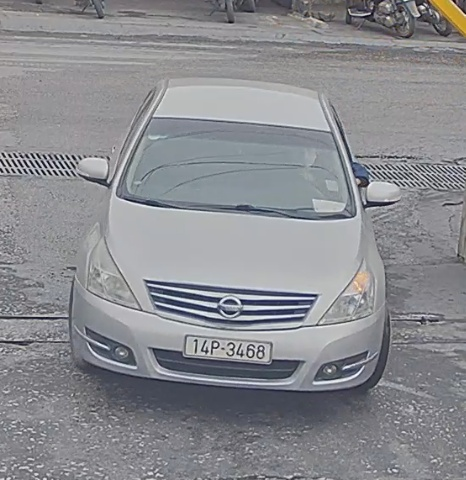vehicle plate: (178, 330, 274, 370)
